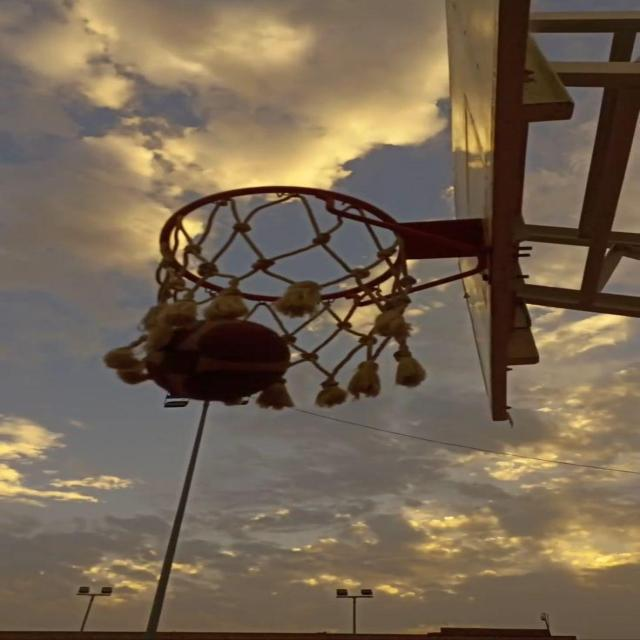hoop: (108, 180, 490, 420)
